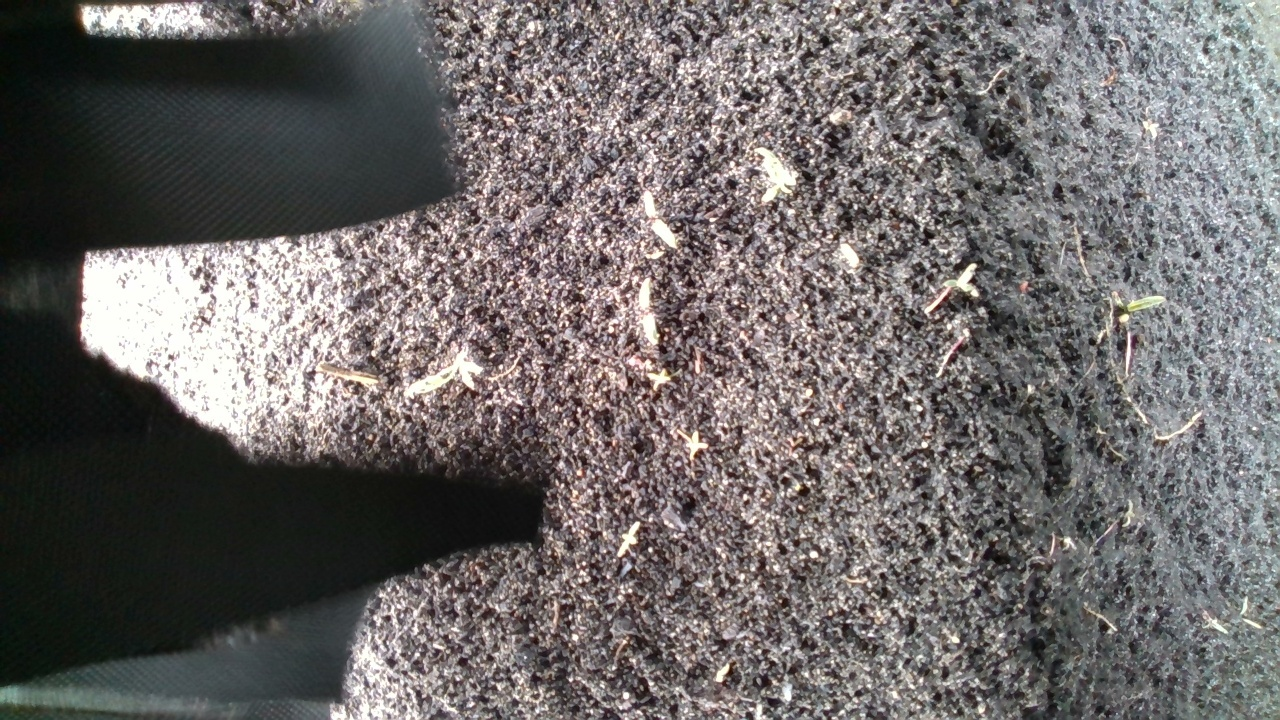weed: (627, 187, 702, 264), (1101, 284, 1148, 333), (633, 275, 663, 347), (674, 428, 711, 461), (616, 520, 643, 558), (646, 367, 672, 390)
